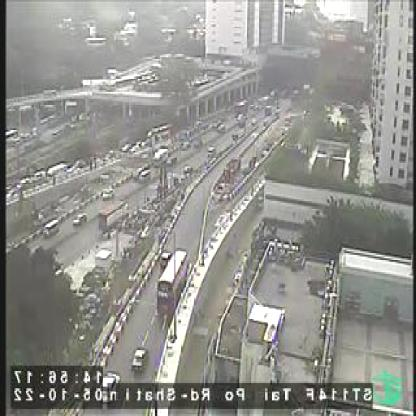Bus: (158, 246, 188, 312), (43, 220, 60, 239), (140, 170, 155, 184)
Car: (97, 373, 121, 400), (131, 347, 151, 369), (159, 250, 173, 267), (102, 188, 116, 200), (73, 214, 87, 225), (147, 270, 156, 284), (208, 146, 217, 158), (185, 163, 195, 173)
